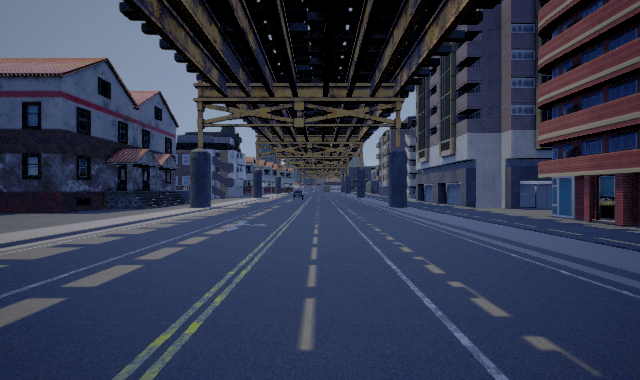vehicle: (292, 189, 306, 200)
